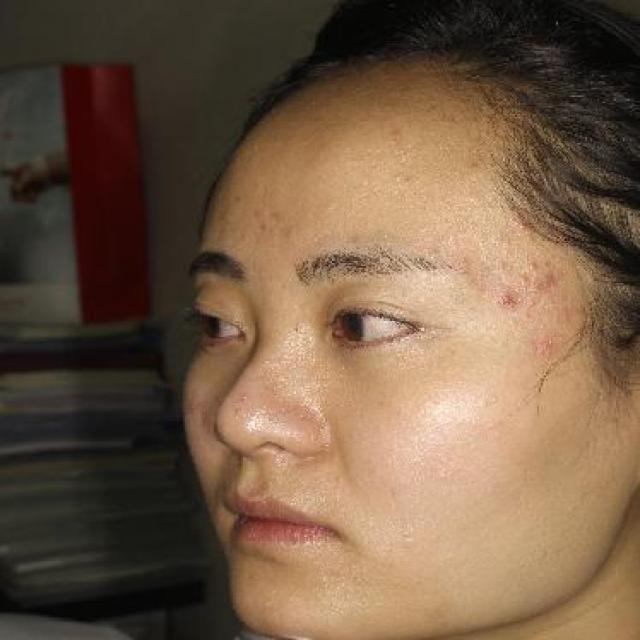dark spot: (494, 288, 522, 310), (542, 272, 562, 285), (529, 260, 544, 272)
